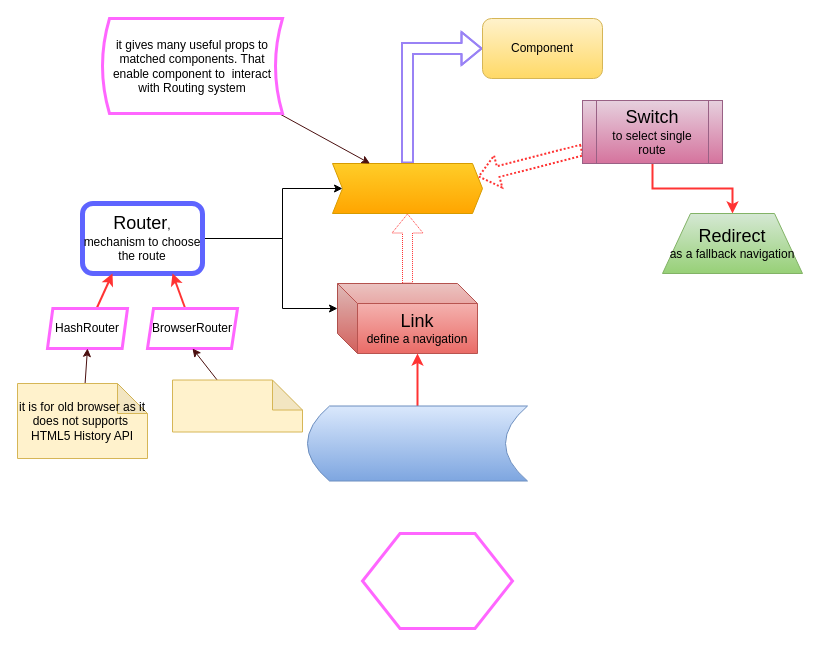
Some shapes in this 820 by 647 pixel diagram are drawn without their labels. The box of each missing label's shape, as (x1, y1, x2, y2) in pixels:
History enable to access Routing system programatically: (360, 532, 514, 630)
NavLink represent current navigation it is just extend Link compoenent: (306, 405, 528, 481)
Route , respond to navigation: (332, 162, 482, 214)
uses the HTML5 History API: (172, 379, 302, 432)
